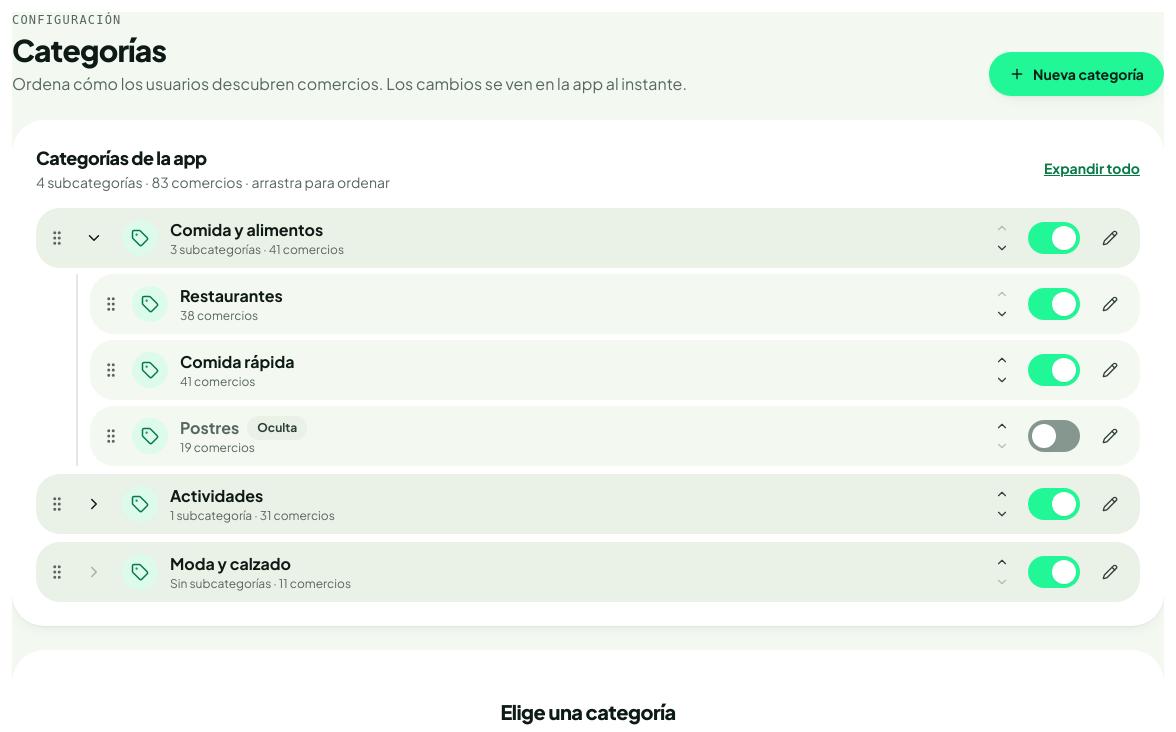
Test: B11 Categorias › muestra el arbol con totales, la primera categoria abierta y las ocultas marcadas
Expected: the text "Comida y alimentos" is shown, [170,218,323,242]
Expected: the text "4 subcategorías · 83 comercios · arrastra para ordenar" is shown, [36,172,390,192]
Click the button "Expandir todo" at point(1092, 168), box [1044,146,1140,190]
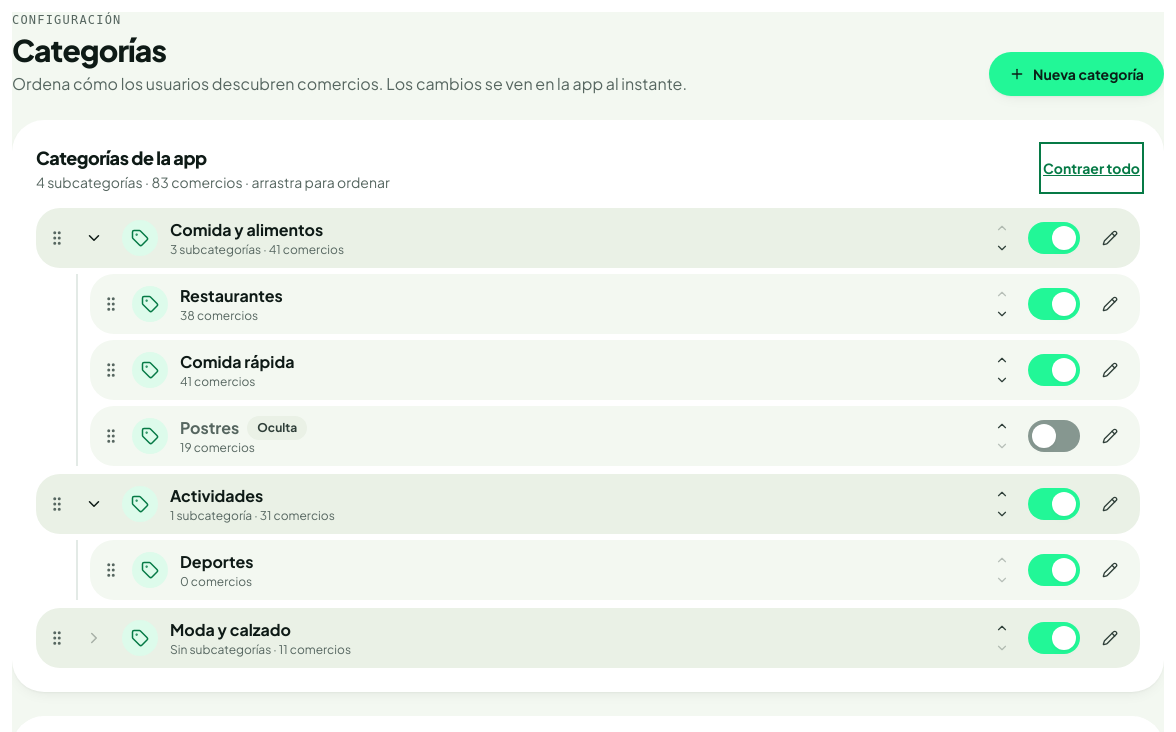
Now the text "Deportes" is shown, box [180,550,254,574]
